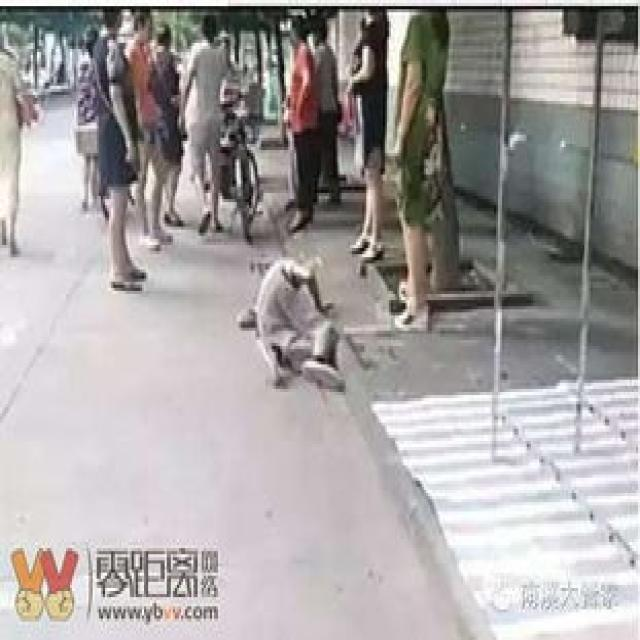Fall: (239, 234, 352, 417)
